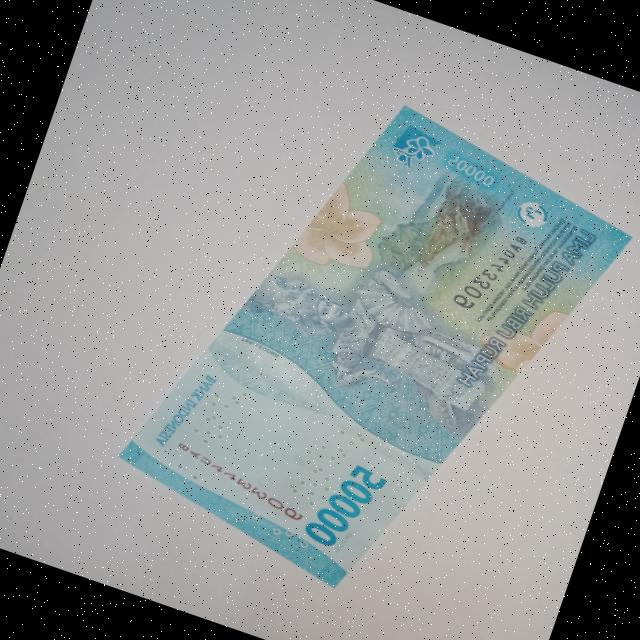50K: (95, 48, 640, 640)
